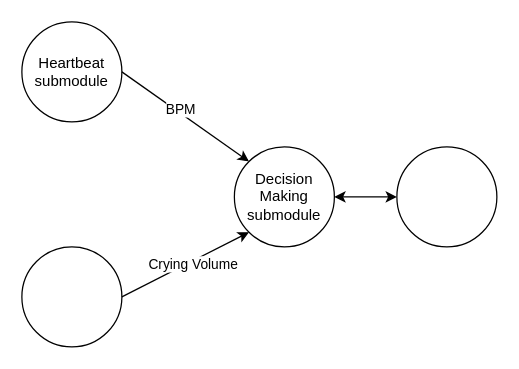
The diagram is 519 pixels wide and 369 high, and some of its shapes have lost their labels. Here are the shapes that lost their labels. From the top down, the centre of each, then its label:
(446,196): Stress Level submodule
(71,296): Crying Volume submodule
